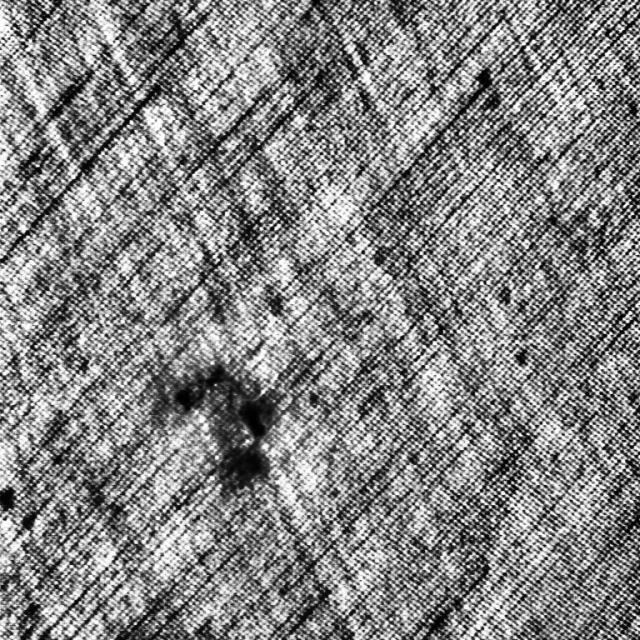Stitch: (166, 328, 292, 520)
